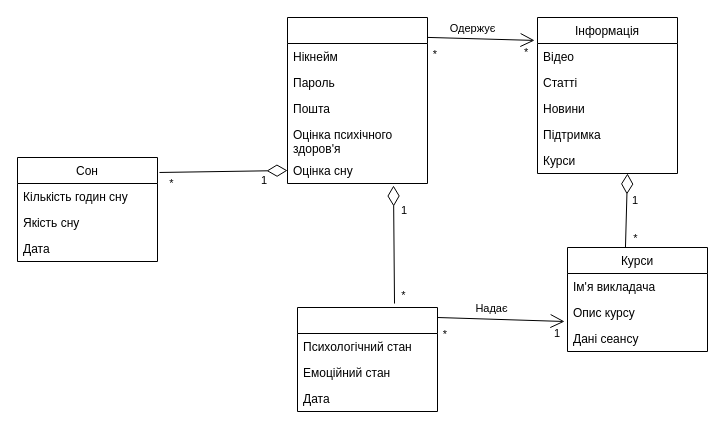
Image size: 725x432. Some labels were removed from this diagram. Here are the shapes that lost their labels. From the top down, the box of each, then its label:
(286, 16, 428, 184): Користувач
(296, 306, 438, 412): Психологічне здоров'я
